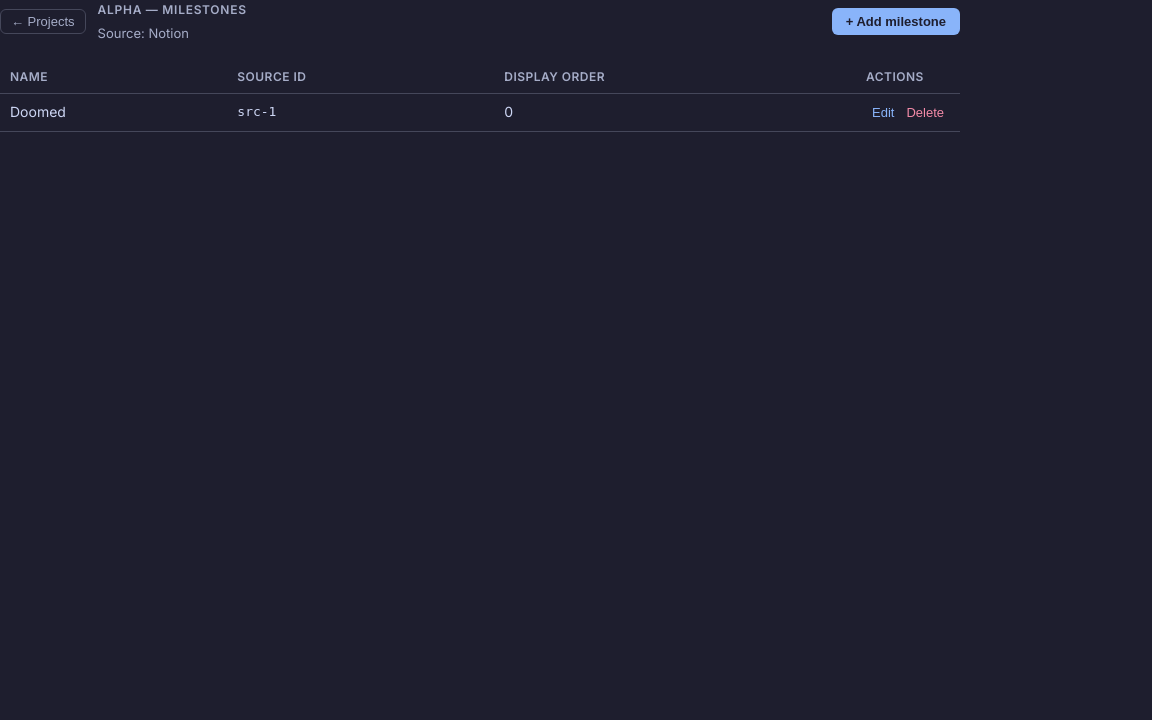
Scenario: MilestonesSubPanel › Delete shows confirm dialog and DELETEs /api/milestones/:id on confirm
Expected: the text "Doomed" is shown, [0,94,227,131]
Step 1. Click the button "Delete" → [925, 113], box [900,103,950,122]
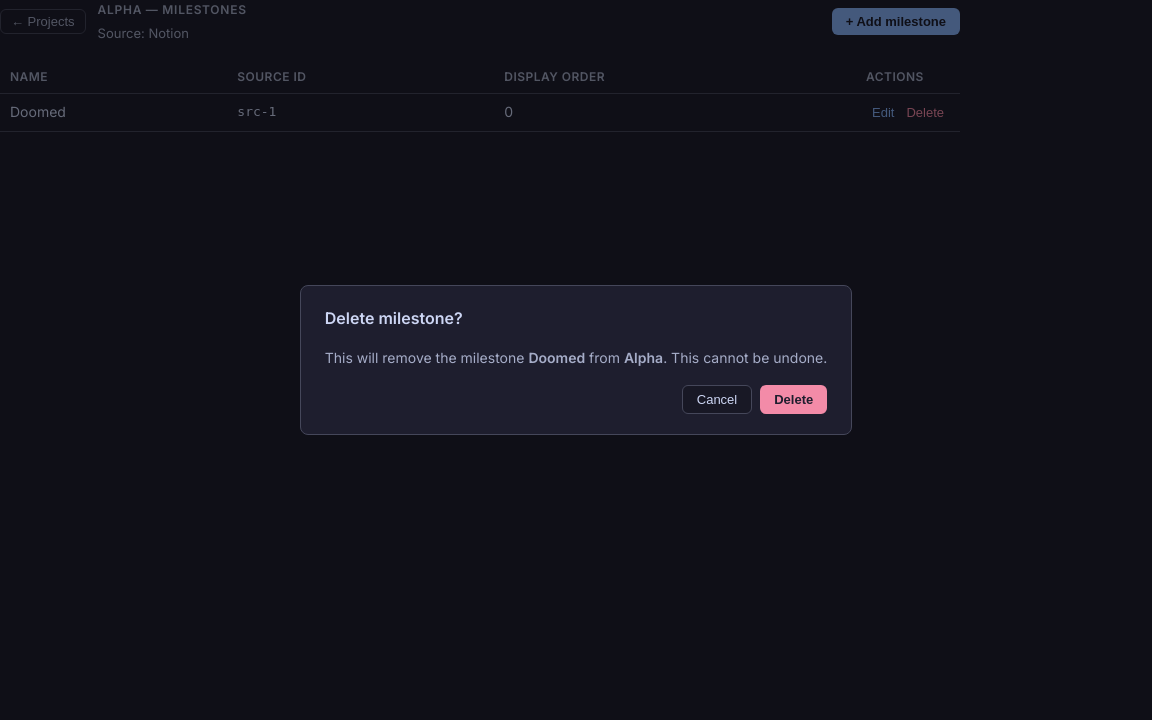
Expected: the heading "Delete milestone?" is shown, [325,308,463,328]
Step 2. Click the button "Delete" → [794, 400], box [760,386,827,414]
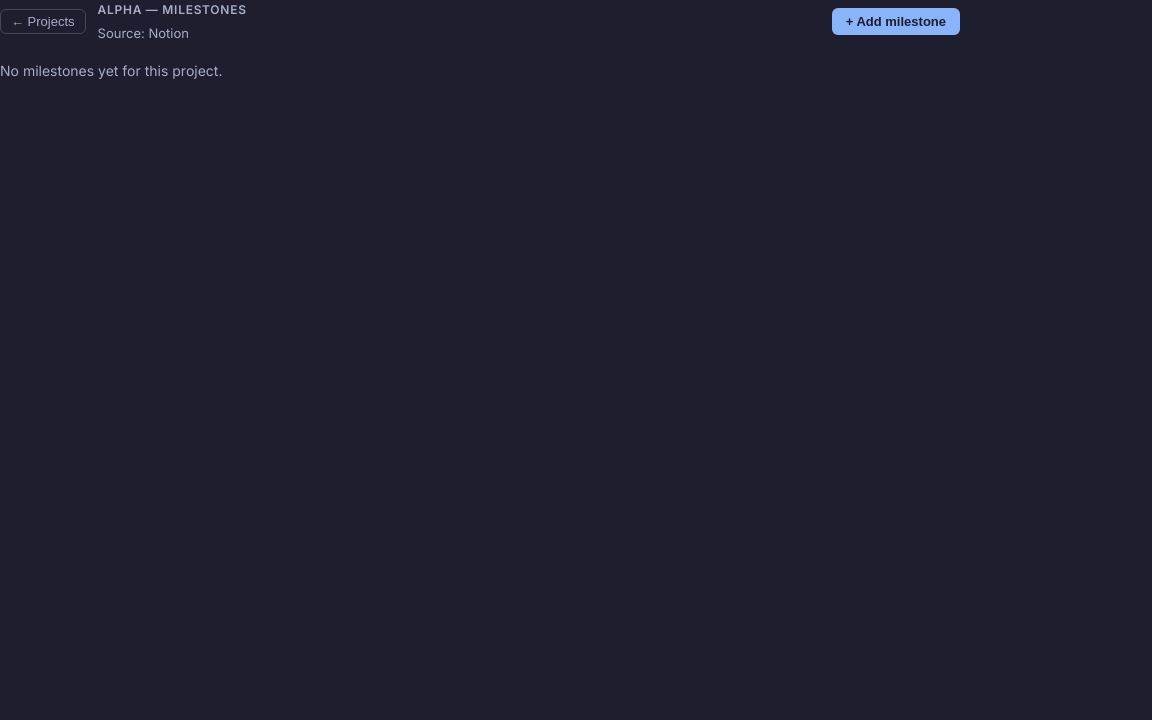
Expected: the text "No milestones yet for this project." is shown, [0,62,222,79]
